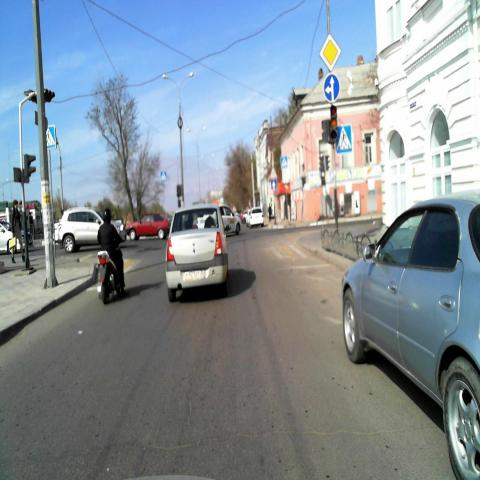4_1_5: (323, 72, 340, 102)
